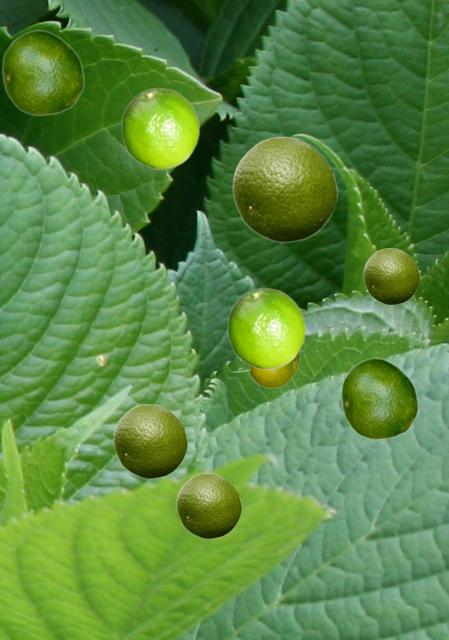calamansi: (232, 135, 337, 242), (1, 29, 84, 115), (340, 357, 418, 439), (227, 287, 305, 368), (121, 87, 199, 168), (113, 403, 187, 478), (176, 472, 241, 538), (363, 247, 419, 304), (230, 353, 299, 387)
